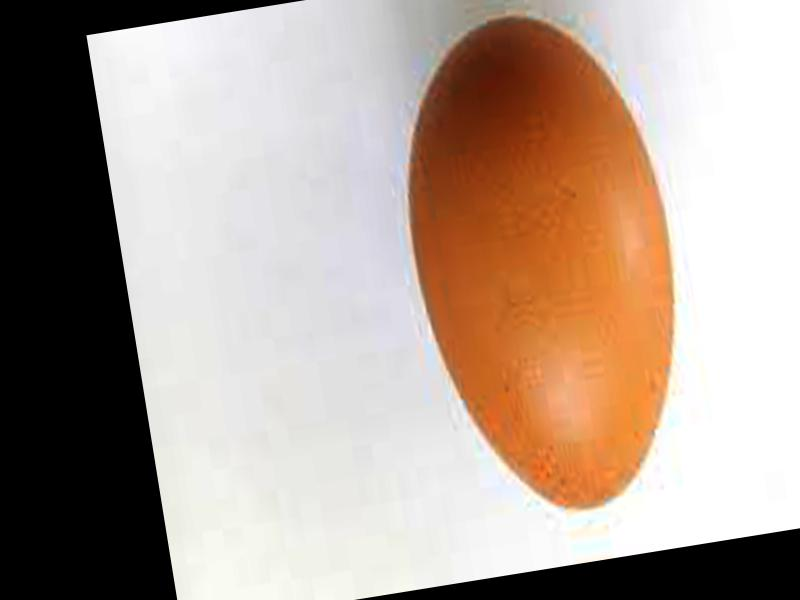Eggs: (379, 1, 706, 529)
